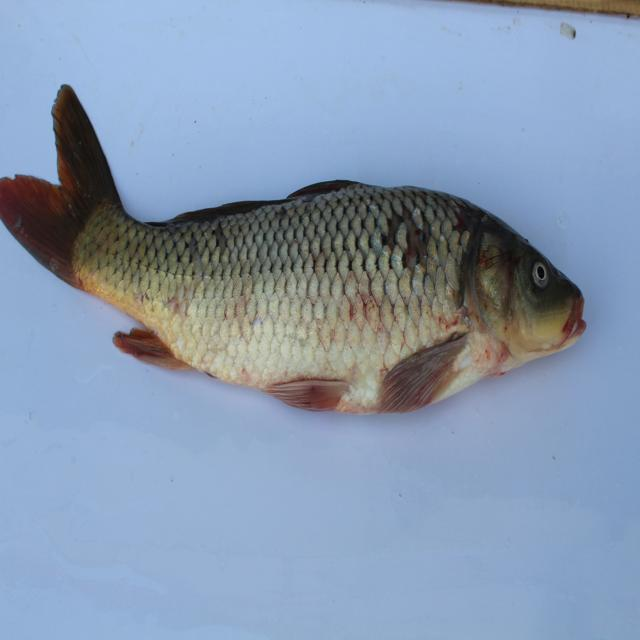CommonCarp: (1, 71, 611, 425)
